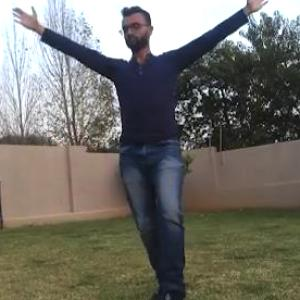takeoff: (28, 0, 246, 299)
